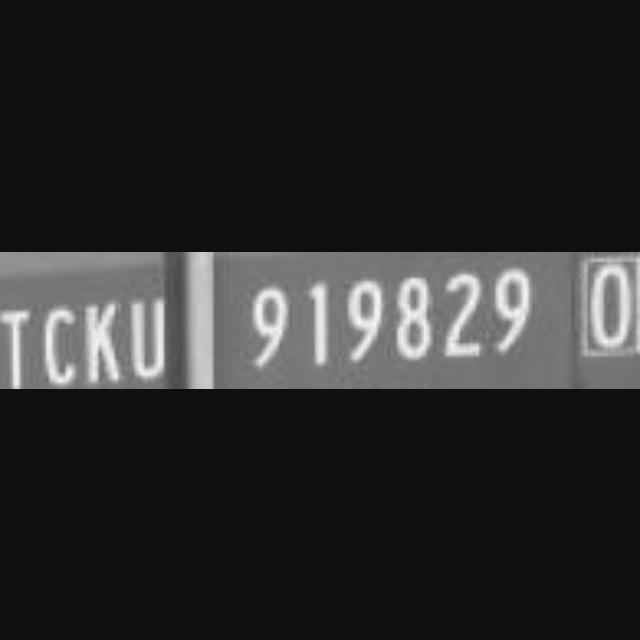0: (584, 251, 640, 361)
1: (304, 271, 336, 389)
2: (438, 259, 486, 373)
8: (395, 262, 439, 381)
9: (488, 252, 538, 376), (341, 266, 387, 388), (245, 274, 298, 378)
c: (41, 301, 80, 389)
k: (82, 296, 125, 388)
t: (1, 304, 36, 388)
u: (128, 289, 172, 389)
